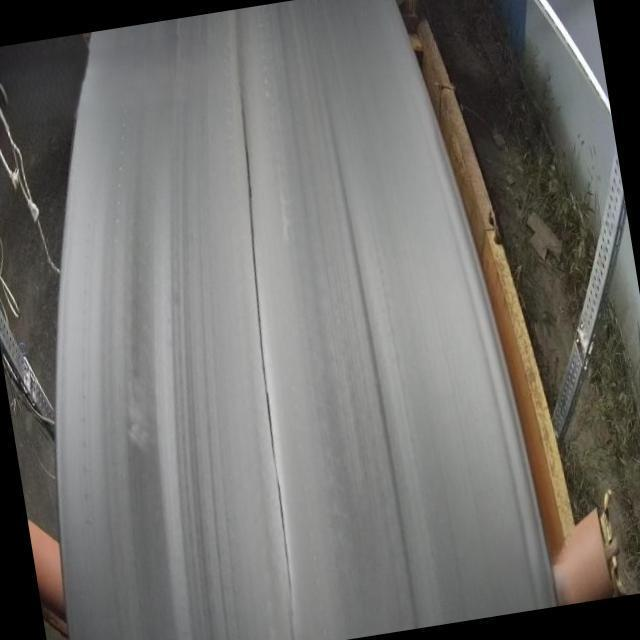Tear: (228, 68, 298, 588)
